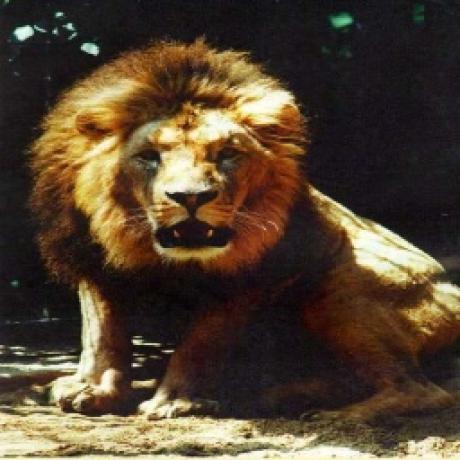Lion: (27, 34, 460, 428)
